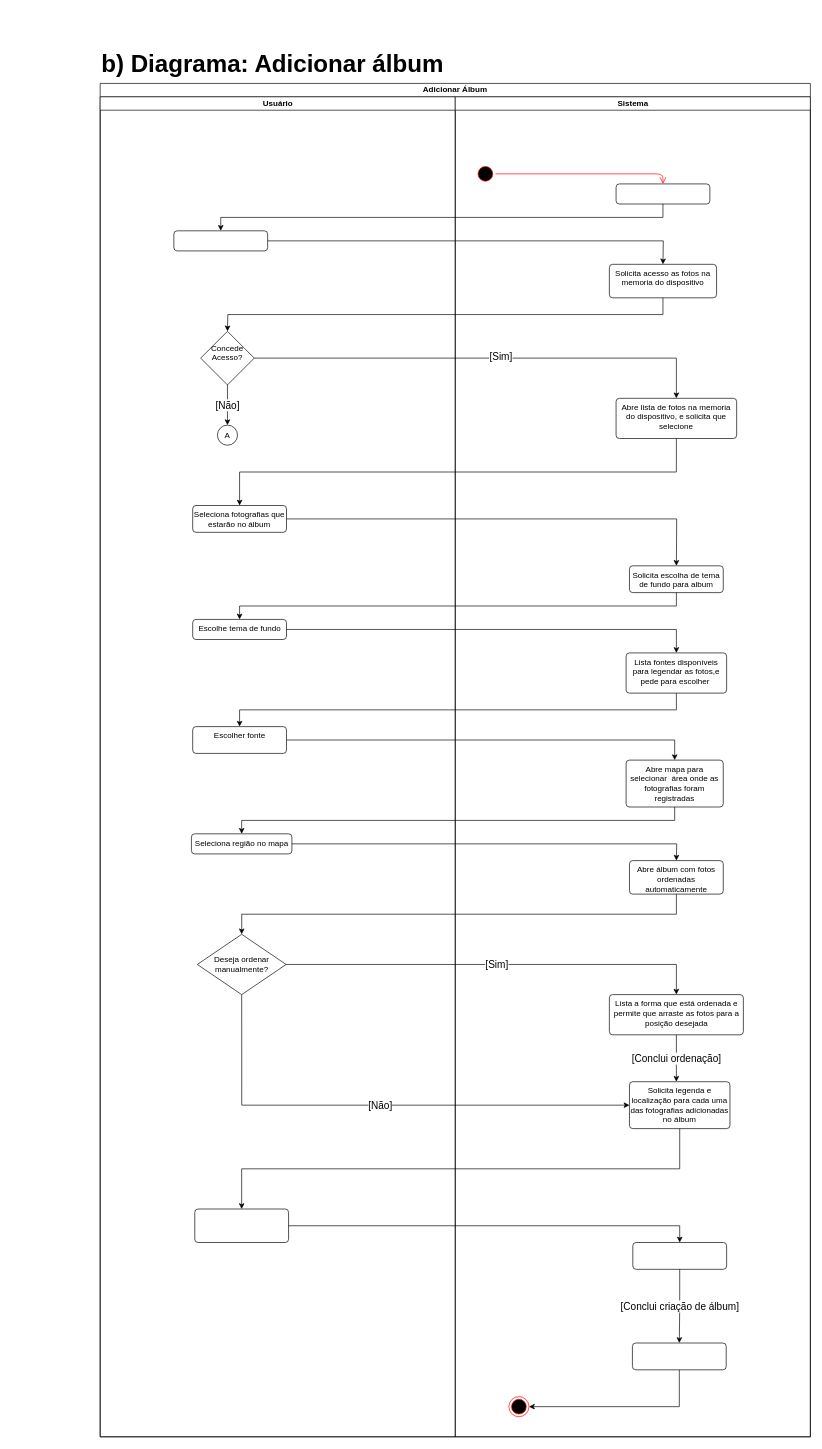
The diagram is 822 pixels wide and 1449 high, and some of its shapes have lost their labels. Here are the shapes that lost their labels. From the top down, the centre of each, then its label:
At point (662, 193): "Solicita nome do álbum".
At point (220, 240): "Digita nome do álbum".
At point (241, 1225): "Fornece legenda e localização".
At point (679, 1255): "Mostra pre-vizualização do álbum".
At point (679, 1356): "Adiciona álbum na galeria de albuns".
